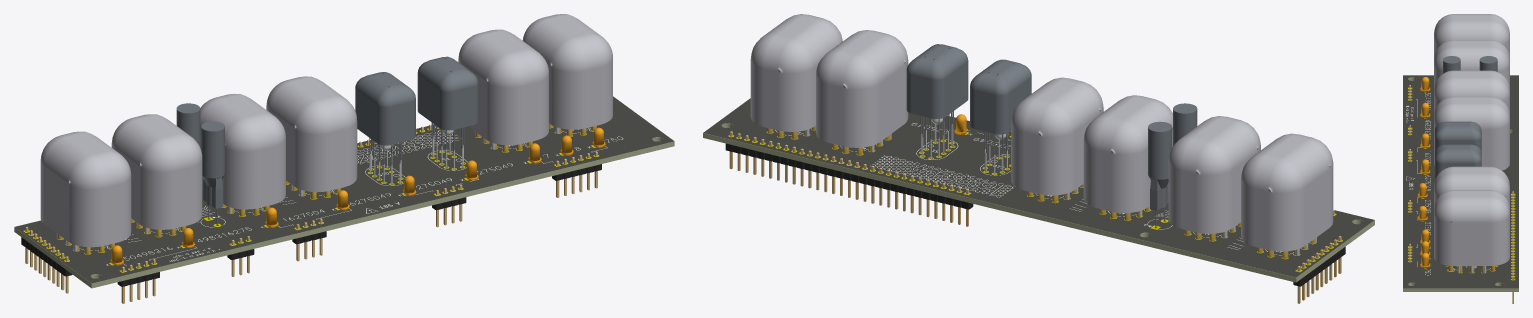
Rendered from TS06-DISP-populated.glb.
3 views of the same model, side by side, from view 1: azimuth 30°, elevation 25°; view 2: azimuth 150°, elevation 25°; view 3: azimuth 270°, elevation 25° (orthographic). The views are drawn at different scales.
Visible parts, largest first — view 1: =>[0:1:1:5] (×6), =>[0:1:1:31], =>[0:1:1:33], =>[0:1:1:9] (×2), =>[0:1:1:15] (×2), =>[0:1:1:29], =>[0:1:1:17], =>[0:1:1:25] (×2), =>[0:1:1:28], =>[0:1:1:27], =>[0:1:1:21]; view 2: =>[0:1:1:5] (×6), =>[0:1:1:31], =>[0:1:1:33], =>[0:1:1:9] (×2), =>[0:1:1:19], =>[0:1:1:15] (×2), =>[0:1:1:29], =>[0:1:1:17], =>[0:1:1:28]; view 3: =>[0:1:1:5] (×6), =>[0:1:1:31], =>[0:1:1:33], =>[0:1:1:9] (×2), =>[0:1:1:3] (×9), =>[0:1:1:15] (×2), =>[0:1:1:29], =>[0:1:1:28], =>[0:1:1:19], =>[0:1:1:7].
Boxes of the visible parts, x1,y1,x2,y2 form: =>[0:1:1:5] (×6): (40,14,612,254); =>[0:1:1:31]: (15,96,673,283); =>[0:1:1:33]: (14,97,674,288); =>[0:1:1:9] (×2): (355,56,478,165); =>[0:1:1:15] (×2): (176,103,224,225); =>[0:1:1:29]: (79,128,623,265); =>[0:1:1:17]: (21,227,72,293); =>[0:1:1:25] (×2): (292,184,466,261); =>[0:1:1:28]: (23,126,605,272); =>[0:1:1:27]: (552,151,601,197); =>[0:1:1:21]: (117,259,159,303); =>[0:1:1:5] (×6): (750,14,1333,255); =>[0:1:1:31]: (703,98,1374,277); =>[0:1:1:33]: (703,99,1374,282); =>[0:1:1:9] (×2): (906,44,1031,154); =>[0:1:1:19]: (725,131,973,226); =>[0:1:1:15] (×2): (1148,103,1197,228); =>[0:1:1:29]: (775,123,1293,255); =>[0:1:1:17]: (1293,236,1345,303); =>[0:1:1:28]: (728,128,1342,272); =>[0:1:1:5] (×6): (1434,14,1509,273); =>[0:1:1:31]: (1403,75,1518,288); =>[0:1:1:33]: (1403,76,1518,291); =>[0:1:1:9] (×2): (1435,121,1481,179); =>[0:1:1:3] (×9): (1417,77,1430,267); =>[0:1:1:15] (×2): (1443,56,1497,73); =>[0:1:1:29]: (1405,93,1490,275); =>[0:1:1:28]: (1408,87,1515,280); =>[0:1:1:19]: (1512,191,1513,303); =>[0:1:1:7]: (1446,265,1497,273).
Size of the model in its own units: 0.1914 by 0.0402 by 0.044.
